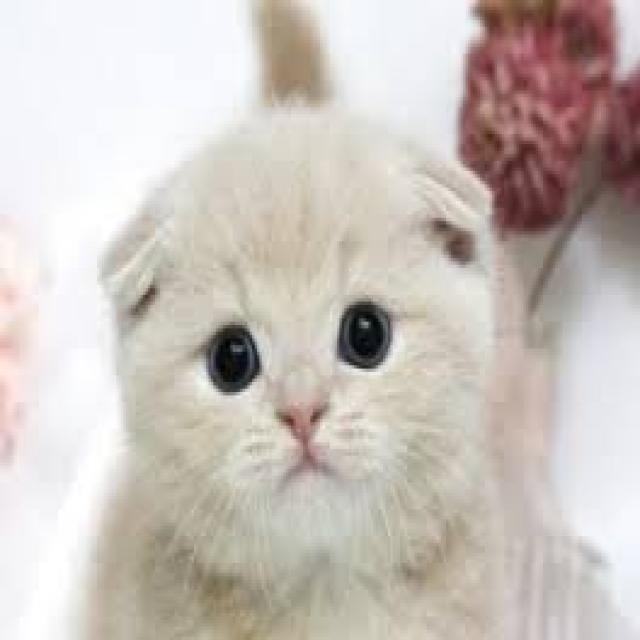cat-face: (78, 45, 535, 610)
